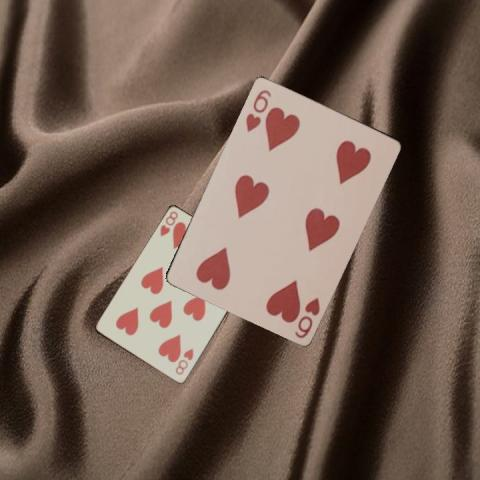6h: (242, 86, 273, 133), (292, 294, 322, 340)
8h: (172, 345, 195, 377), (158, 208, 179, 238)
